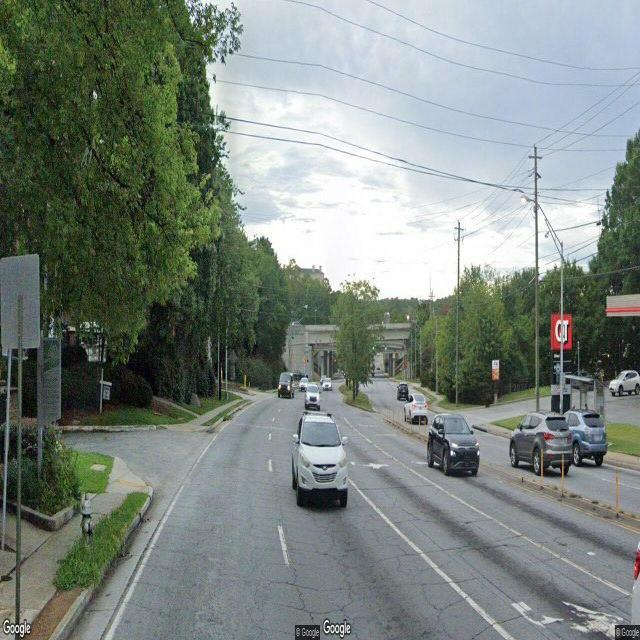shelter: (563, 374, 607, 436)
